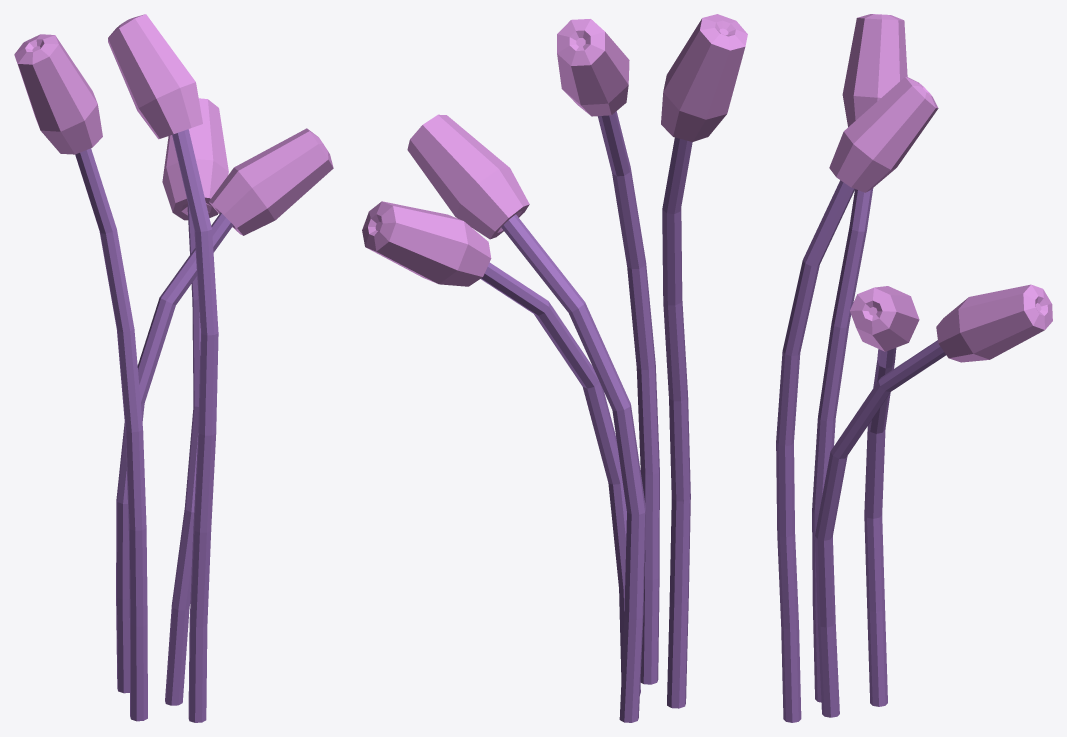
File: Gras_01_Var_04.fbx
3 views of the same model, side by side, from view 1: azimuth 30°, elevation 25°; view 2: azimuth 150°, elevation 25°; view 3: azimuth 270°, elevation 25° (orthographic). The views are drawn at different scales.
Visible parts, largest first — view 1: Gras_01_Var_04; view 2: Gras_01_Var_04; view 3: Gras_01_Var_04.
Boxes of the visible parts, x1=… form: Gras_01_Var_04: x1=14, y1=14, x2=333, y2=722; Gras_01_Var_04: x1=362, y1=14, x2=747, y2=722; Gras_01_Var_04: x1=776, y1=14, x2=1052, y2=722.
Bounding box in the file's own units: 0.1324 × 0.3453 × 0.1661.
